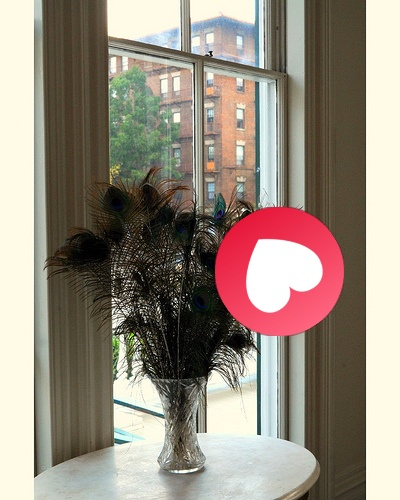love: (215, 207, 344, 336)
